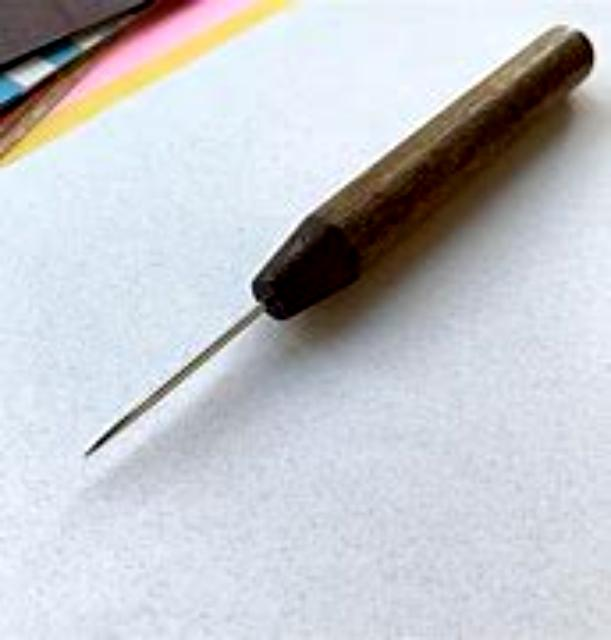ice pick: (89, 25, 601, 451)
